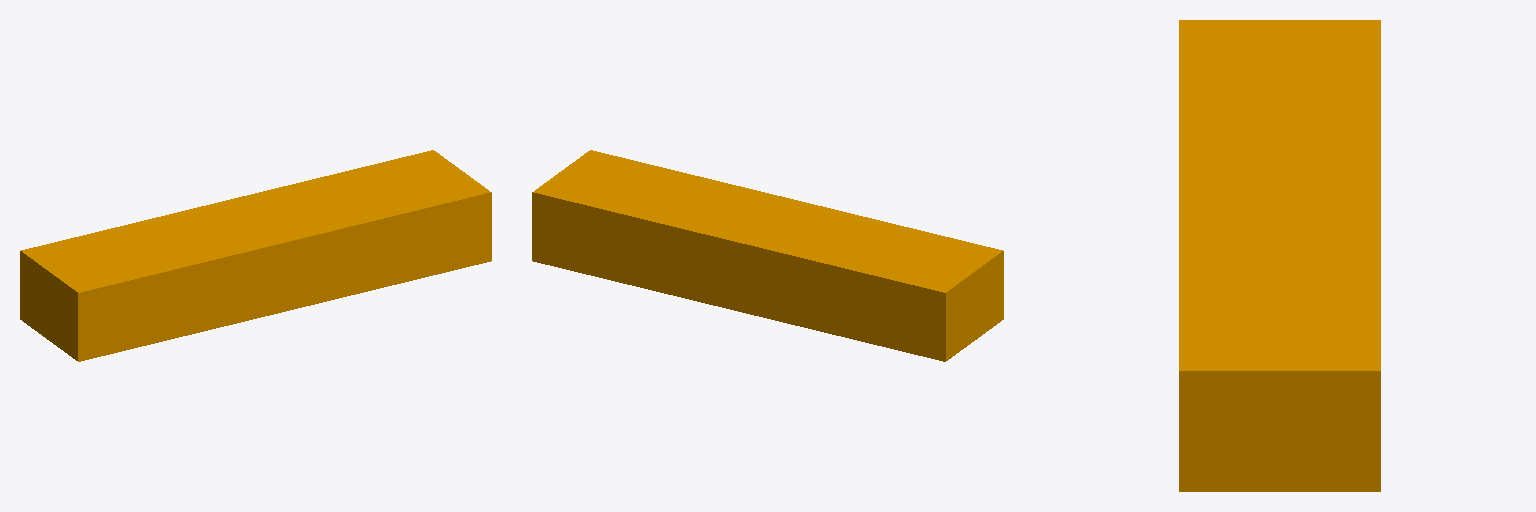
The robot description file, URDF, robot "unnamed":
<robot name="unnamed" version="1.0">
  <joint name="Hipback-left-joint" type="revolute">
    <limit lower="-3.14000" upper="3.14000" effort="0.00000" velocity="0.00000"/>
    <origin rpy="-3.14159 1.57080 -0.00000" xyz="-1.01689 0.09211 -0.03398"/>
    <parent link="Body_link"/>
    <child link="Hipback-left_link"/>
    <axis xyz="0.00000 0.00000 1.00000"/>
  </joint>
  <joint name="Femurback-left-joint" type="revolute">
    <limit lower="-3.14000" upper="3.14000" effort="0.00000" velocity="0.00000"/>
    <origin rpy="1.14190 1.57080 -0.44834" xyz="0.20010 -0.63604 -0.09756"/>
    <parent link="Hipback-left_link"/>
    <child link="Femurback-left_link"/>
    <axis xyz="0.00000 0.00000 1.00000"/>
  </joint>
  <joint name="Femurfront-right-joint" type="revolute">
    <limit lower="-3.14000" upper="3.14000" effort="0.00000" velocity="0.00000"/>
    <origin rpy="1.57080 -1.57080 0.00000" xyz="0.19846 -0.64343 0.04818"/>
    <parent link="Hipfront-right_link"/>
    <child link="Femurfront-right_link"/>
    <axis xyz="0.00000 0.00000 1.00000"/>
  </joint>
  <joint name="TibiaLfront-right" type="revolute">
    <limit lower="-3.14000" upper="3.14000" effort="0.00000" velocity="0.00000"/>
    <origin rpy="-0.01047 0.00000 0.01252" xyz="0.56805 -0.00026 0.01632"/>
    <parent link="Femurfront-right_link"/>
    <child link="TibiaLfront-right_link"/>
    <axis xyz="0.00000 0.00000 1.00000"/>
  </joint>
  <joint name="TibiaLback-left-joint" type="revolute">
    <limit lower="-3.14000" upper="3.14000" effort="0.00000" velocity="0.00000"/>
    <origin rpy="-0.03874 0.01647 0.01122" xyz="0.56915 -0.03142 -0.07694"/>
    <parent link="Femurback-left_link"/>
    <child link="TibiaLback-left_link"/>
    <axis xyz="0.00000 0.00000 1.00000"/>
  </joint>
  <joint name="Hipback-right" type="revolute">
    <limit lower="-3.14000" upper="3.14000" effort="0.00000" velocity="0.00000"/>
    <origin rpy="0.00000 -1.57080 0.00000" xyz="-1.01689 -0.08910 -0.03466"/>
    <parent link="Body_link"/>
    <child link="Hipback-right_link"/>
    <axis xyz="0.00000 0.00000 1.00000"/>
  </joint>
  <joint name="Femurback-right-joint" type="revolute">
    <limit lower="-3.14000" upper="3.14000" effort="0.00000" velocity="0.00000"/>
    <origin rpy="1.58477 1.57080 0.00000" xyz="-0.19846 -0.64343 -0.04818"/>
    <parent link="Hipback-right_link"/>
    <child link="Femurback-right_link"/>
    <axis xyz="0.00000 0.00000 1.00000"/>
  </joint>
  <joint name="TibiaLback-right_joint" type="revolute">
    <limit lower="-3.14000" upper="3.14000" effort="0.00000" velocity="0.00000"/>
    <origin rpy="-0.02291 0.02386 -0.00055" xyz="0.57104 0.00281 0.03004"/>
    <parent link="Femurback-right_link"/>
    <child link="TibiaLback-right_link"/>
    <axis xyz="0.00000 0.00000 1.00000"/>
  </joint>
  <joint name="Hipfront-left-joint" type="revolute">
    <limit lower="-3.14000" upper="3.14000" effort="0.00000" velocity="0.00000"/>
    <origin rpy="-3.14159 -1.57080 0.00000" xyz="0.87024 0.09211 -0.03398"/>
    <parent link="Body_link"/>
    <child link="Hipfront-left_link"/>
    <axis xyz="0.00000 0.00000 1.00000"/>
  </joint>
  <joint name="Femurfront-left-joint" type="revolute">
    <limit lower="-3.14000" upper="3.14000" effort="0.00000" velocity="0.00000"/>
    <origin rpy="1.34289 -1.57080 0.22791" xyz="-0.20056 -0.63601 0.09831"/>
    <parent link="Hipfront-left_link"/>
    <child link="Femurfront-left_link"/>
    <axis xyz="0.00000 0.00000 1.00000"/>
  </joint>
  <joint name="TibiaLfront-left-joint" type="revolute">
    <limit lower="-3.14000" upper="3.14000" effort="0.00000" velocity="0.00000"/>
    <origin rpy="0.02448 0.00784 0.00019" xyz="0.56967 0.00379 0.01526"/>
    <parent link="Femurfront-left_link"/>
    <child link="TibiaLfront-left_link"/>
    <axis xyz="0.00000 0.00000 1.00000"/>
  </joint>
  <joint name="Hipfront-right-joint_" type="revolute">
    <limit lower="-3.14000" upper="3.14000" effort="0.00000" velocity="0.00000"/>
    <origin rpy="0.00000 1.57080 0.00000" xyz="0.87024 -0.08910 -0.03466"/>
    <parent link="Body_link"/>
    <child link="Hipfront-right_link"/>
    <axis xyz="0.00000 0.00000 1.00000"/>
  </joint>
  <link name="Body_link">
    <visual name="Body">
      <material name="None"/>
      <origin rpy="0.00000 0.00000 0.00000" xyz="0.00000 0.00000 0.00000"/>
      <geometry>
        <box size="2.23178 0.54200 0.35652"/>
      </geometry>
    </visual>
  </link>
  <link name="Hipback-left_link"/>
  <link name="Hipfront-right_link"/>
  <link name="Femurfront-right_link"/>
  <link name="TibiaLfront-right_link"/>
  <link name="Femurback-left_link"/>
  <link name="TibiaLback-left_link"/>
  <link name="Hipback-right_link"/>
  <link name="Femurback-right_link"/>
  <link name="TibiaLback-right_link"/>
  <link name="Hipfront-left_link"/>
  <link name="Femurfront-left_link"/>
  <link name="TibiaLfront-left_link"/>
</robot>

--- What the picture shows (computed from the rendered views, not written in the file) ---
Views: 3 orthographic renders of the robot side by side, from view 1: azimuth 30°, elevation 25°; view 2: azimuth 150°, elevation 25°; view 3: azimuth 270°, elevation 25°.
Robot: unnamed — 13 links, 12 joints (12 revolute); root link Body_link; default pose: all joints at 0.
Visible links, largest first — view 1: Body_link; view 2: Body_link; view 3: Body_link.
Link boxes in pixels (x1,y1,x2,y2): Body_link: [20, 150, 491, 361]; Body_link: [532, 150, 1003, 361]; Body_link: [1179, 20, 1380, 491].
Size in the robot's own frame: 2.23 by 0.542 by 0.3565 metres.
Geometry: primitives only (box / cylinder / sphere), no mesh files.
